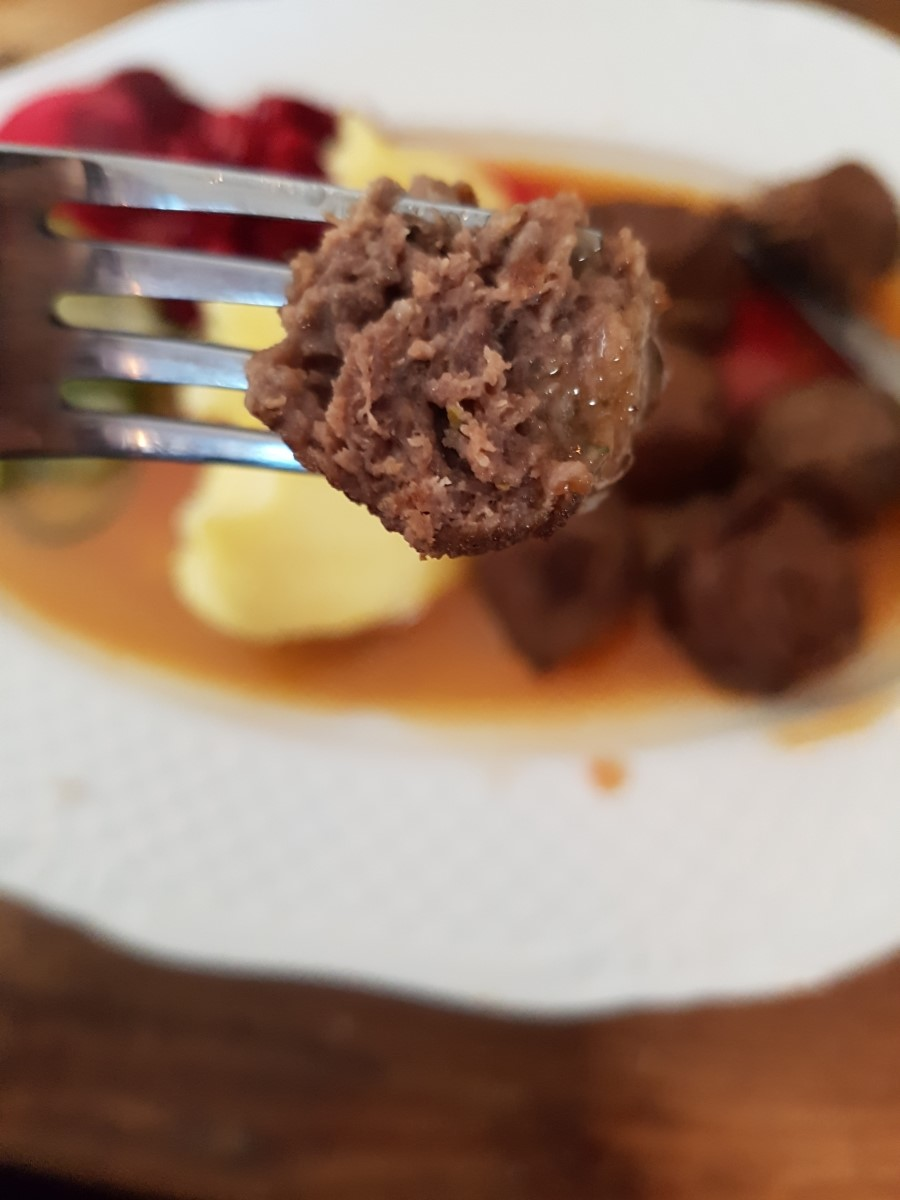meatballs: (257, 189, 684, 567)
